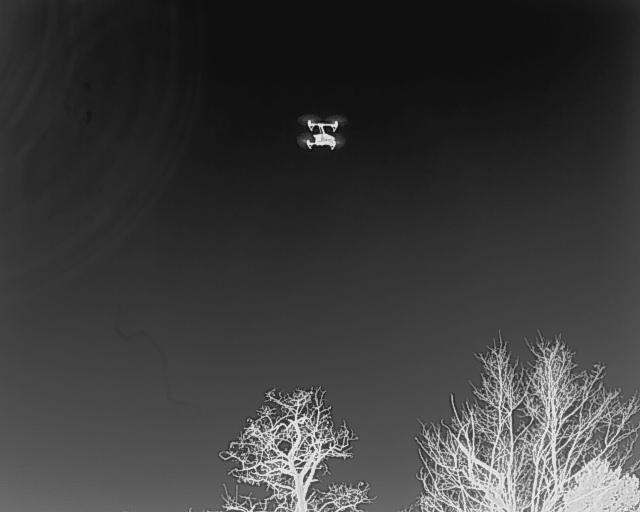drone: (292, 108, 351, 155)
